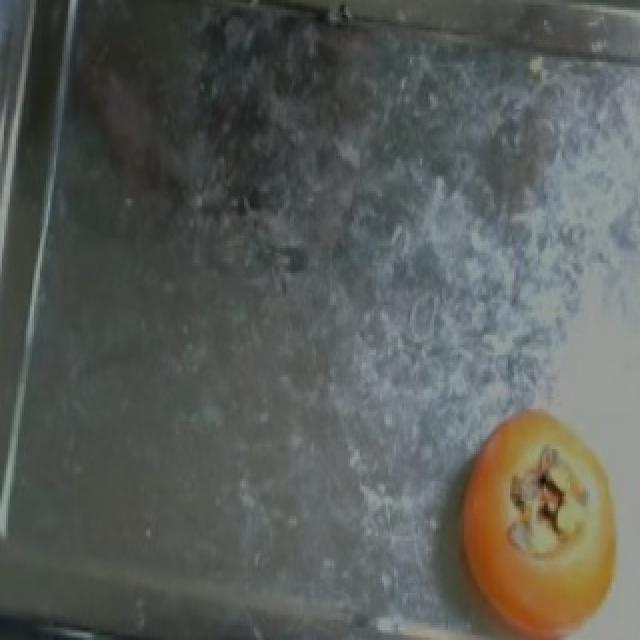Fruit: (434, 394, 636, 640)
